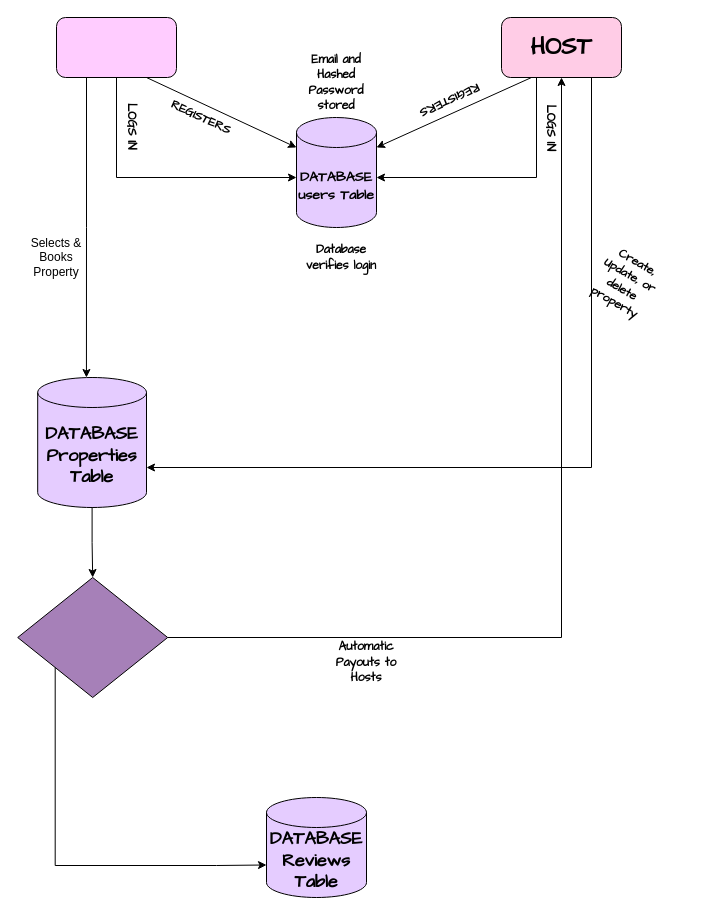
Image size: 711x924. Some labels were removed from this diagram. The shapes that lost their labels are listed below. From the top down, each one's centre as x and y in pixels, then its label:
At point (116, 47): "GUEST".
At point (92, 637): "PAYMENT INTEGRATION".
